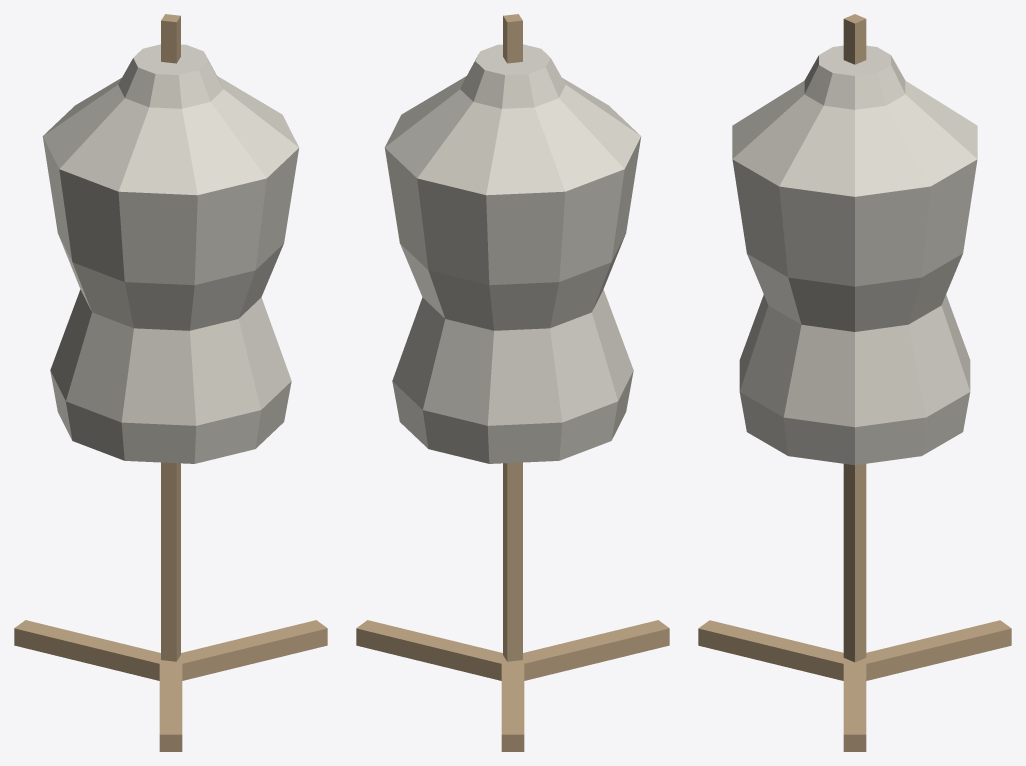
Rendered from prop-dress-form-simple.fbx.
The picture shows the model from 3 angles, left to right: view 1: azimuth 30°, elevation 25°; view 2: azimuth 150°, elevation 25°; view 3: azimuth 270°, elevation 25°; orthographic projection.
Parts seen in each view (by area): view 1: prop-dress-form-simple; view 2: prop-dress-form-simple; view 3: prop-dress-form-simple.
Boxes of the visible parts, x1=… form: prop-dress-form-simple: x1=14, y1=14, x2=327, y2=751; prop-dress-form-simple: x1=356, y1=14, x2=669, y2=751; prop-dress-form-simple: x1=698, y1=14, x2=1011, y2=751.
Bounding box in the file's own units: 40 × 96 × 41.34.
